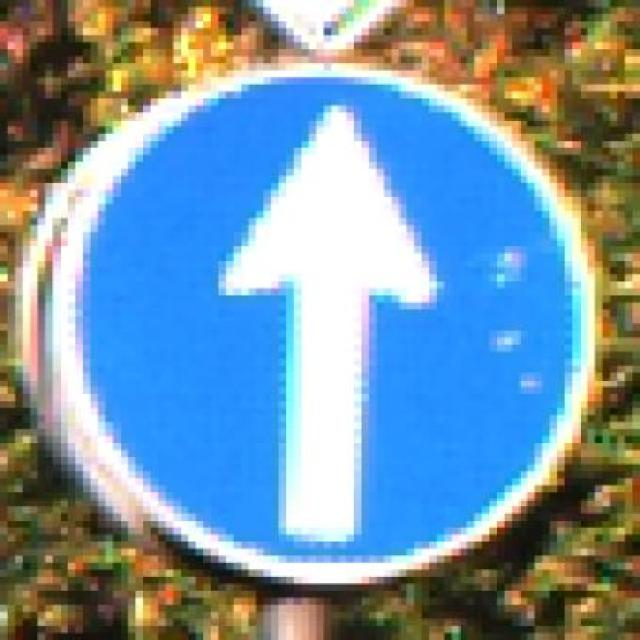Straight Ahead Only: (15, 49, 610, 598)
